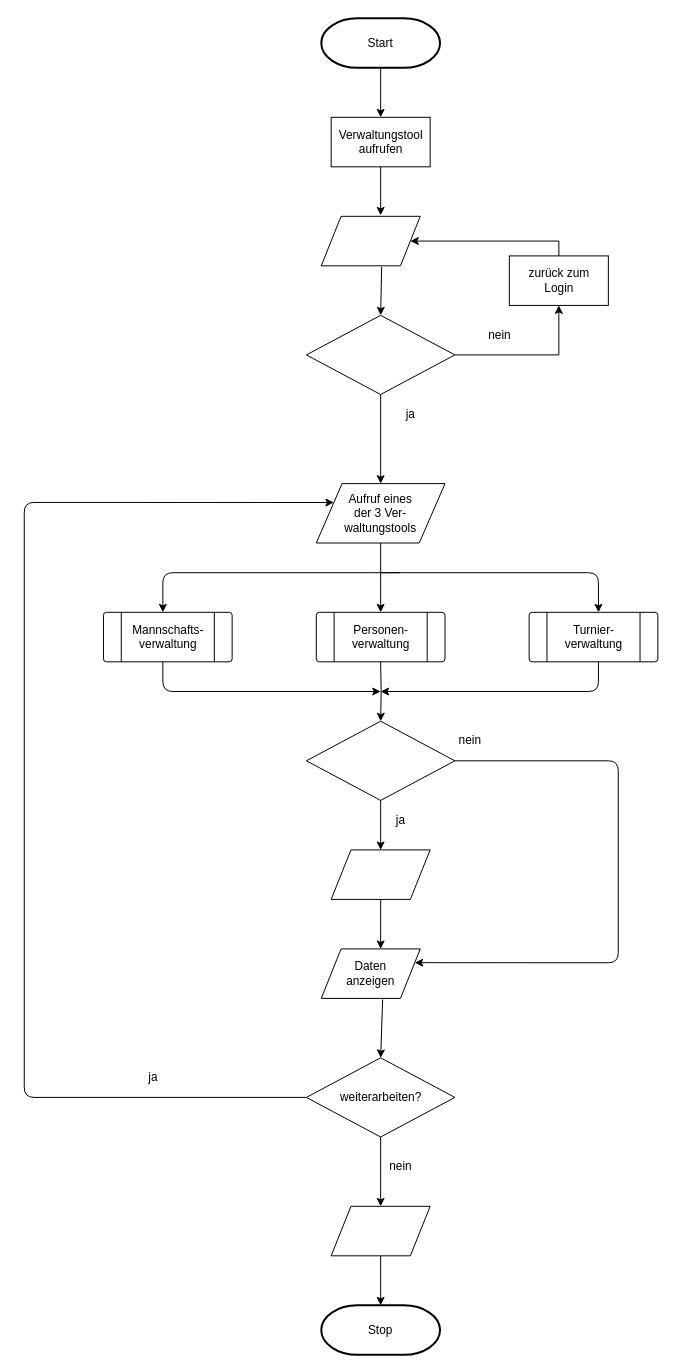
Some shapes in this 675 by 1372 pixel diagram are drawn without their labels. Here are the shapes that lost their labels. From the top down, the centre of each, then its label:
At point (370, 240): "Login Eingabe".
At point (380, 354): "User vorhanden?".
At point (380, 760): "ist User admin?".
At point (380, 874): "Editier- elemente Anzeigen".
At point (380, 1230): "Signout drücken".
